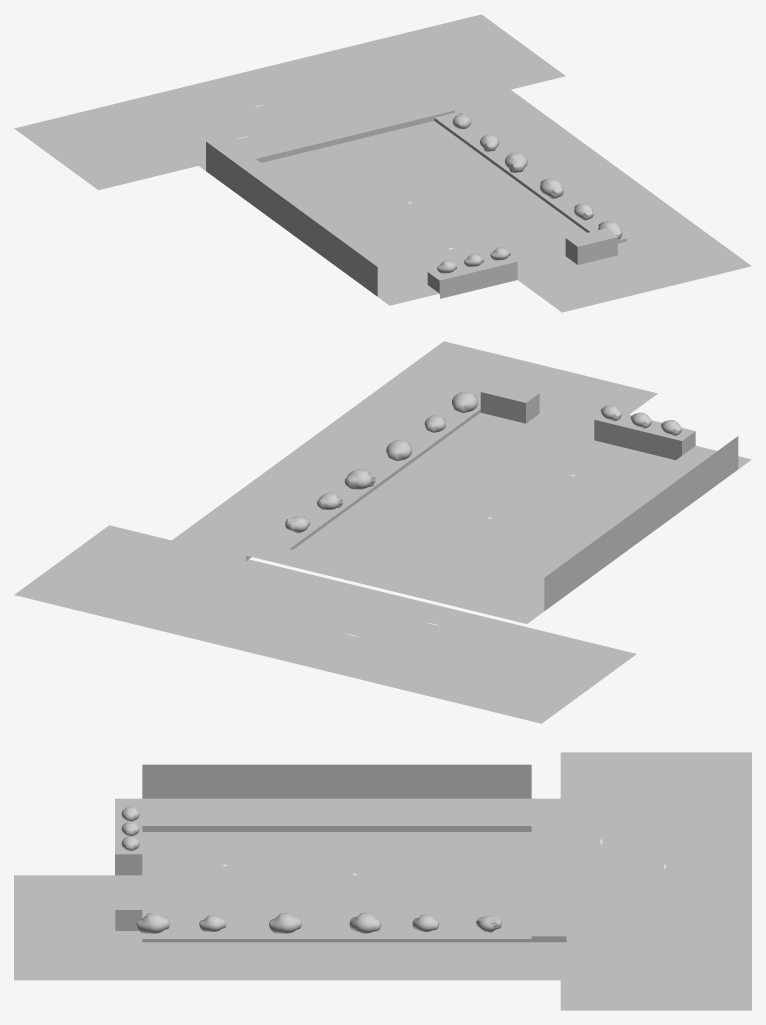
The model's file is Parking.glb.
3 views of the same model, one above another, from view 1: azimuth 30°, elevation 25°; view 2: azimuth 150°, elevation 25°; view 3: azimuth 270°, elevation 25° (orthographic). The views are drawn at different scales.
Parts seen in each view (by area): view 1: Plane; view 2: Plane; view 3: Plane.
Boxes of the visible parts, bbox=[...] form: Plane: bbox=[14, 14, 751, 312]; Plane: bbox=[14, 341, 751, 723]; Plane: bbox=[14, 752, 751, 1010].
Bounding box in the file's own units: 157 × 11.3 × 190.
1 material, 1 textured.
